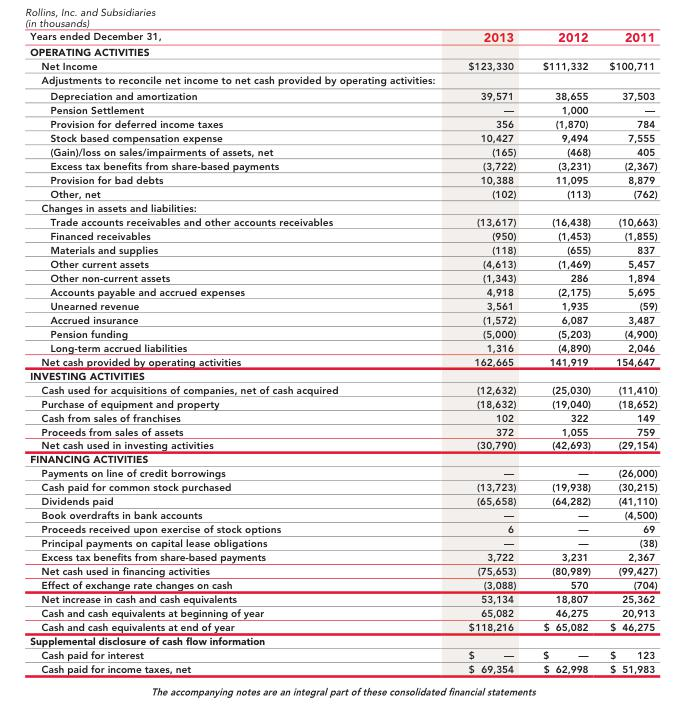table: (29, 29, 656, 674)
table column: (29, 29, 402, 674), (402, 29, 528, 674), (528, 29, 599, 674), (599, 29, 656, 674)
table column header: (29, 29, 656, 44)
table projected row header: (29, 72, 656, 87), (29, 367, 656, 382), (29, 44, 656, 58), (29, 200, 656, 214), (29, 451, 656, 465), (29, 633, 656, 647)
table row: (29, 29, 656, 44), (29, 72, 656, 87), (29, 87, 656, 102), (29, 367, 656, 382), (29, 44, 656, 58), (29, 58, 656, 72), (29, 102, 656, 116), (29, 116, 656, 130), (29, 130, 656, 144), (29, 144, 656, 158), (29, 158, 656, 172), (29, 172, 656, 186), (29, 186, 656, 200), (29, 200, 656, 214), (29, 214, 656, 228), (29, 228, 656, 242), (29, 242, 656, 256), (29, 256, 656, 270), (29, 270, 656, 284), (29, 284, 656, 298), (29, 298, 656, 312), (29, 312, 656, 326), (29, 326, 656, 340), (29, 340, 656, 354), (29, 382, 656, 396), (29, 409, 656, 423), (29, 423, 656, 437), (29, 437, 656, 451), (29, 451, 656, 465), (29, 465, 656, 479), (29, 479, 656, 493), (29, 493, 656, 507), (29, 507, 656, 521), (29, 521, 656, 535), (29, 535, 656, 549), (29, 549, 656, 563), (29, 563, 656, 577), (29, 577, 656, 591), (29, 591, 656, 605), (29, 605, 656, 619), (29, 619, 656, 633), (29, 633, 656, 647), (29, 647, 656, 661), (29, 354, 656, 367), (29, 396, 656, 409), (29, 661, 656, 674)
